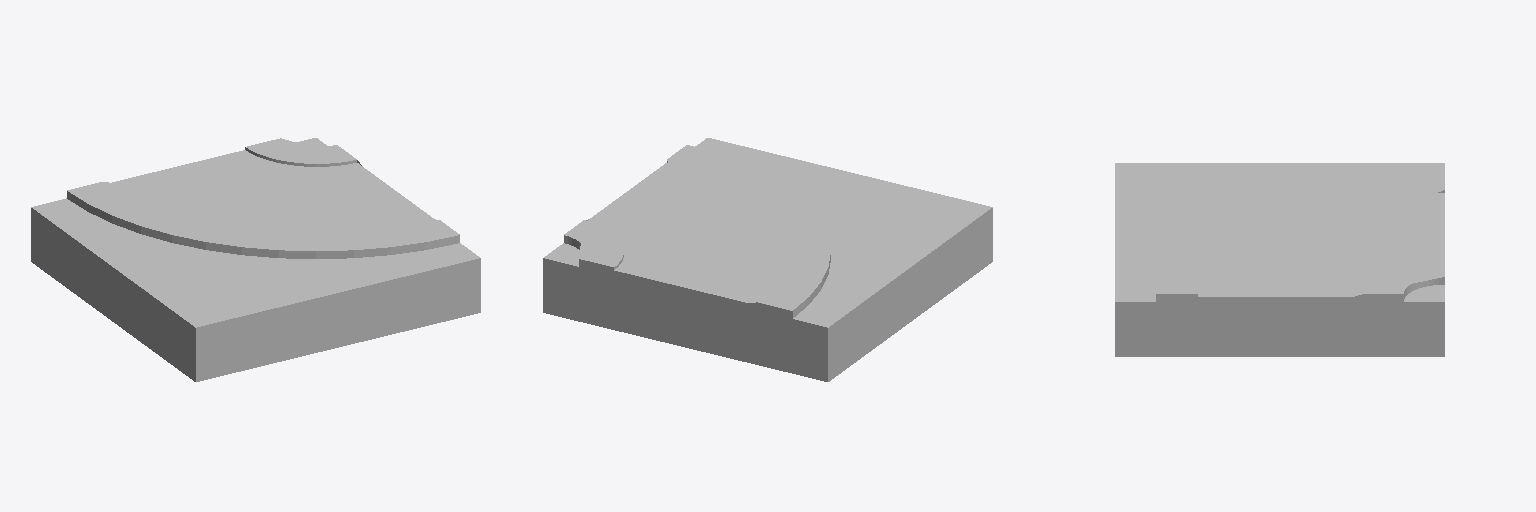
The model's file is Corner.obj.
The picture shows the model from 3 angles: view 1: azimuth 30°, elevation 25°; view 2: azimuth 150°, elevation 25°; view 3: azimuth 270°, elevation 25°; orthographic projection.
Parts seen in each view (by area): view 1: Corner; view 2: Corner; view 3: Corner.
Boxes of the visible parts, x1,y1,x2,y2 form: Corner: [31, 138, 480, 381]; Corner: [543, 138, 992, 381]; Corner: [1115, 163, 1444, 356].
Bounding box in the file's own units: 3 × 0.63 × 3.